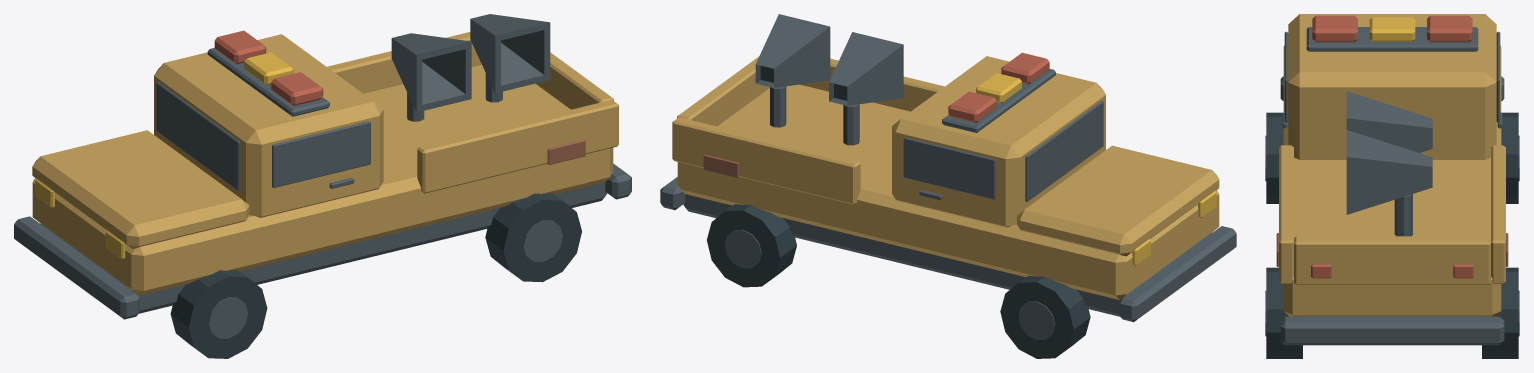
The model's file is alarm_truck.glb.
The picture shows the model from 3 angles, left to right: view 1: azimuth 30°, elevation 25°; view 2: azimuth 150°, elevation 25°; view 3: azimuth 270°, elevation 25°; orthographic projection. The views are drawn at different scales.
Parts seen in each view (by area): view 1: Keep_Mesh; view 2: Keep_Mesh; view 3: Keep_Mesh.
Part boxes in pixels (x1,y1,x2,y2): Keep_Mesh: (14, 14, 631, 358); Keep_Mesh: (660, 14, 1236, 358); Keep_Mesh: (1265, 14, 1519, 358).
Bounding box in the file's own units: 5.2 × 2.2 × 2.22.
